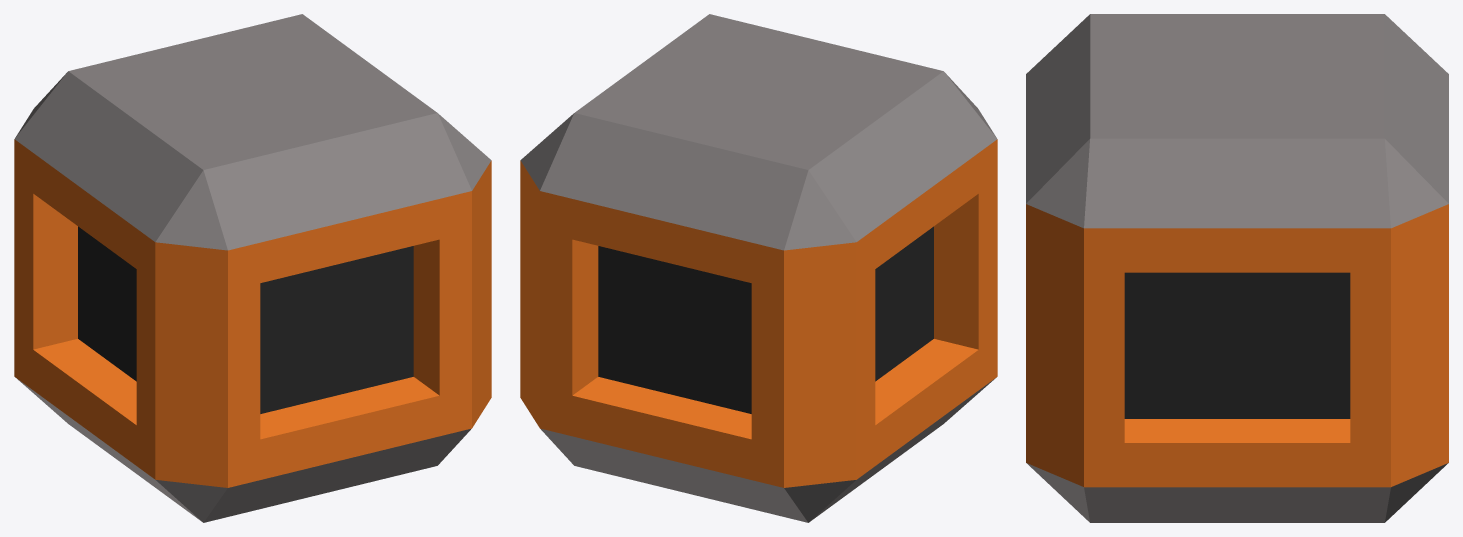
Rendered from scifi_belt-moving-connector.fbx.
3 renders of one model, left to right at view 1: azimuth 30°, elevation 25°; view 2: azimuth 150°, elevation 25°; view 3: azimuth 270°, elevation 25°, orthographic. The views are drawn at different scales.
Parts seen in each view (by area): view 1: scifi_belt_moving_connector; view 2: scifi_belt_moving_connector; view 3: scifi_belt_moving_connector.
Boxes of the visible parts, left/top/right/bottom form: scifi_belt_moving_connector: left=14, top=14, right=491, bottom=522; scifi_belt_moving_connector: left=520, top=14, right=997, bottom=522; scifi_belt_moving_connector: left=1026, top=14, right=1448, bottom=522.
Size of the model in its own units: 199 by 200 by 199.
